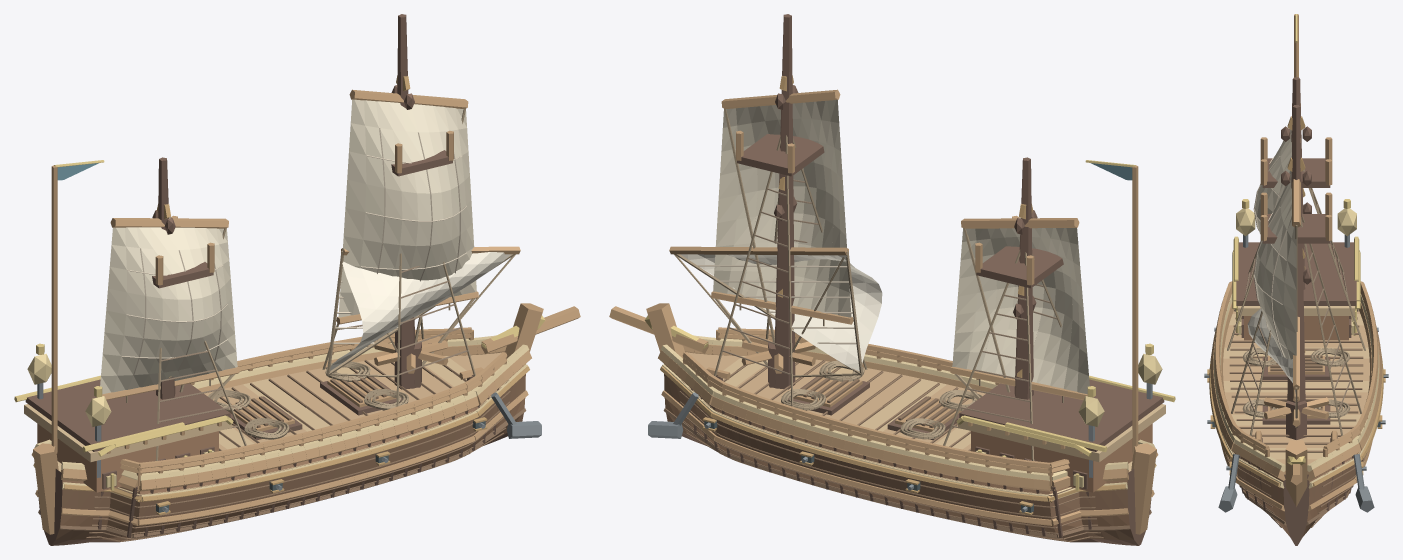
File: new_england_ketch-v5-mobile.glb
3 views of the same model, side by side, from view 1: azimuth 30°, elevation 25°; view 2: azimuth 150°, elevation 25°; view 3: azimuth 270°, elevation 25° (orthographic). The views are drawn at different scales.
Visible parts, largest first — view 1: new_england_ketch_sails_sail, new_england_ketch_hull_wood, new_england_ketch_hull_hull, new_england_ketch_railings_wood, new_england_ketch_hull_seam, new_england_ketch_deck_darkwood, new_england_ketch_hull_pale, new_england_ketch_sails_sailbright, new_england_ketch_masts_darkwood, new_england_ketch_hull_deck, new_england_ketch_hull_hull2, new_england_ketch_rigging_wood (+18 smaller); view 2: new_england_ketch_sails_sail, new_england_ketch_hull_wood, new_england_ketch_masts_darkwood, new_england_ketch_hull_hull, new_england_ketch_hull_seam, new_england_ketch_deck_darkwood, new_england_ketch_railings_wood, new_england_ketch_hull_pale, new_england_ketch_rigging_wood, new_england_ketch_sails_sailbright, new_england_ketch_hull_deck, new_england_ketch_hull_hull2 (+18 smaller); view 3: new_england_ketch_sails_sail, new_england_ketch_hull_deck, new_england_ketch_masts_darkwood, new_england_ketch_hull_wood, new_england_ketch_deck_darkwood, new_england_ketch_hull_seam, new_england_ketch_railings_wood, new_england_ketch_hull_decklight, new_england_ketch_masts_rope, new_england_ketch_hull_pale, new_england_ketch_hull_hull, new_england_ketch_masts_wood (+20 smaller).
Part boxes in pixels (x1=…): new_england_ketch_sails_sail: x1=100, y1=99, x2=476, y2=394; new_england_ketch_hull_wood: x1=31, y1=303, x2=580, y2=534; new_england_ketch_hull_hull: x1=56, y1=374, x2=525, y2=542; new_england_ketch_railings_wood: x1=120, y1=327, x2=507, y2=486; new_england_ketch_hull_seam: x1=38, y1=360, x2=526, y2=541; new_england_ketch_deck_darkwood: x1=25, y1=379, x2=230, y2=489; new_england_ketch_hull_pale: x1=34, y1=335, x2=529, y2=500; new_england_ketch_sails_sailbright: x1=330, y1=252, x2=511, y2=370; new_england_ketch_masts_darkwood: x1=152, y1=14, x2=452, y2=399; new_england_ketch_hull_deck: x1=204, y1=352, x2=501, y2=450; new_england_ketch_hull_hull2: x1=60, y1=364, x2=525, y2=535; new_england_ketch_rigging_wood: x1=102, y1=89, x2=520, y2=400; new_england_ketch_sails_sail: x1=713, y1=100, x2=1089, y2=394; new_england_ketch_hull_wood: x1=609, y1=303, x2=1158, y2=534; new_england_ketch_masts_darkwood: x1=737, y1=14, x2=1063, y2=399; new_england_ketch_hull_hull: x1=664, y1=374, x2=1133, y2=542; new_england_ketch_hull_seam: x1=663, y1=360, x2=1151, y2=541; new_england_ketch_deck_darkwood: x1=959, y1=379, x2=1164, y2=489; new_england_ketch_railings_wood: x1=682, y1=327, x2=1069, y2=486; new_england_ketch_hull_pale: x1=660, y1=335, x2=1155, y2=501; new_england_ketch_rigging_wood: x1=669, y1=89, x2=1087, y2=400; new_england_ketch_sails_sailbright: x1=680, y1=254, x2=882, y2=371; new_england_ketch_hull_deck: x1=688, y1=352, x2=985, y2=450; new_england_ketch_hull_hull2: x1=664, y1=364, x2=1129, y2=535; new_england_ketch_sails_sail: x1=1255, y1=129, x2=1296, y2=393; new_england_ketch_hull_deck: x1=1223, y1=309, x2=1369, y2=464; new_england_ketch_masts_darkwood: x1=1262, y1=77, x2=1330, y2=402; new_england_ketch_hull_wood: x1=1210, y1=302, x2=1382, y2=511; new_england_ketch_deck_darkwood: x1=1236, y1=242, x2=1356, y2=337; new_england_ketch_hull_seam: x1=1225, y1=317, x2=1367, y2=527; new_england_ketch_railings_wood: x1=1214, y1=281, x2=1378, y2=457; new_england_ketch_hull_decklight: x1=1223, y1=314, x2=1369, y2=459; new_england_ketch_masts_rope: x1=1227, y1=169, x2=1365, y2=435; new_england_ketch_hull_pale: x1=1213, y1=294, x2=1379, y2=488; new_england_ketch_hull_hull: x1=1229, y1=458, x2=1363, y2=536; new_england_ketch_masts_wood: x1=1260, y1=137, x2=1332, y2=241.
Bounding box in the file's own units: 41.04 × 32.75 × 13.79.
